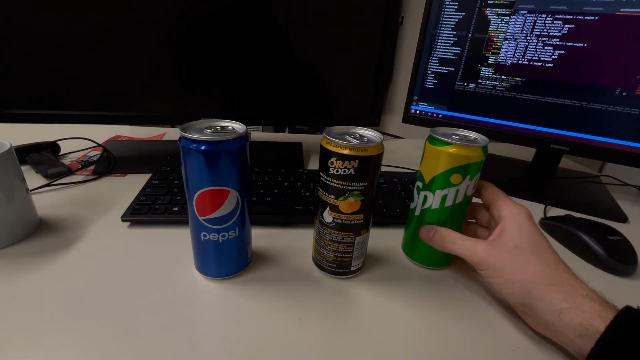OranSoda: (308, 123, 387, 281)
Pepsi: (176, 118, 258, 280)
Sprite: (398, 123, 489, 273)
